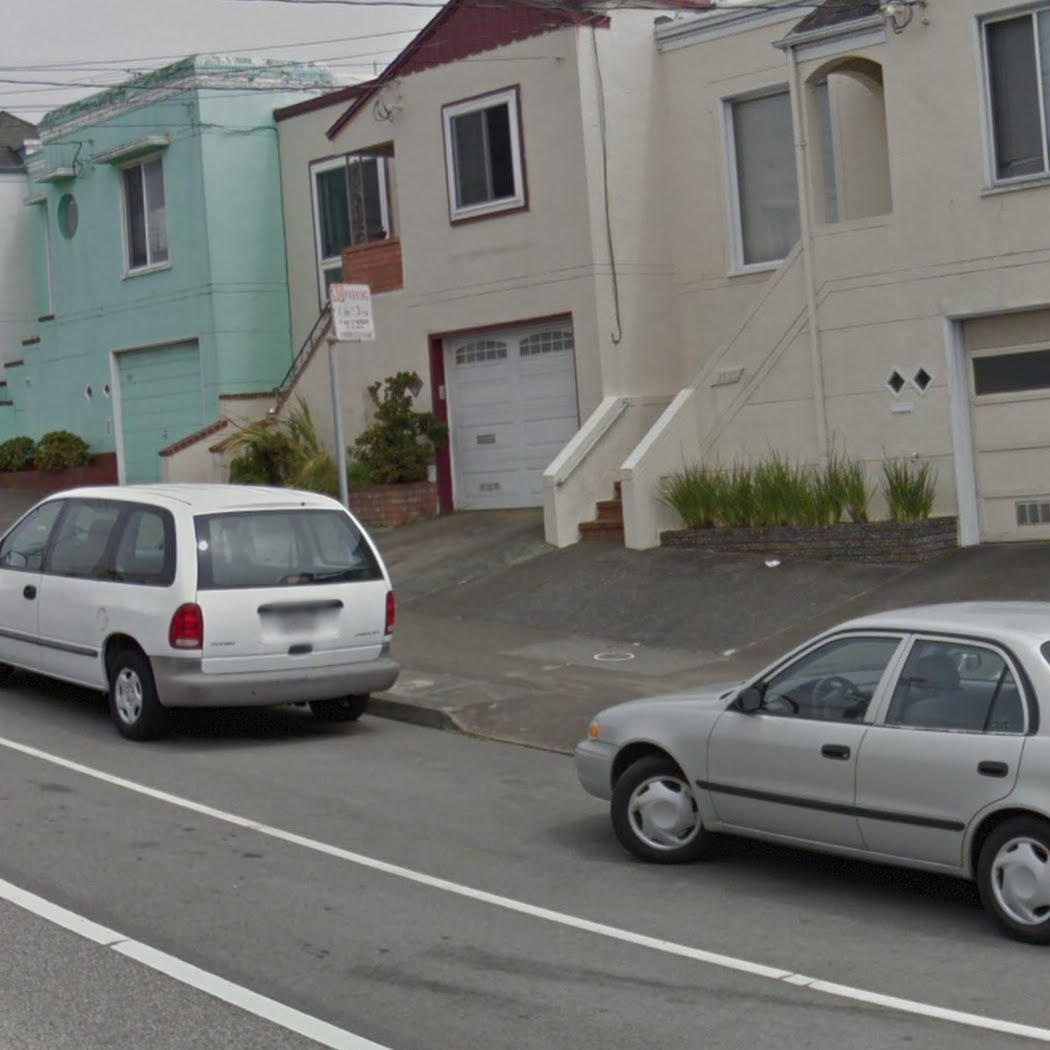No Parking: (328, 282, 378, 342)
